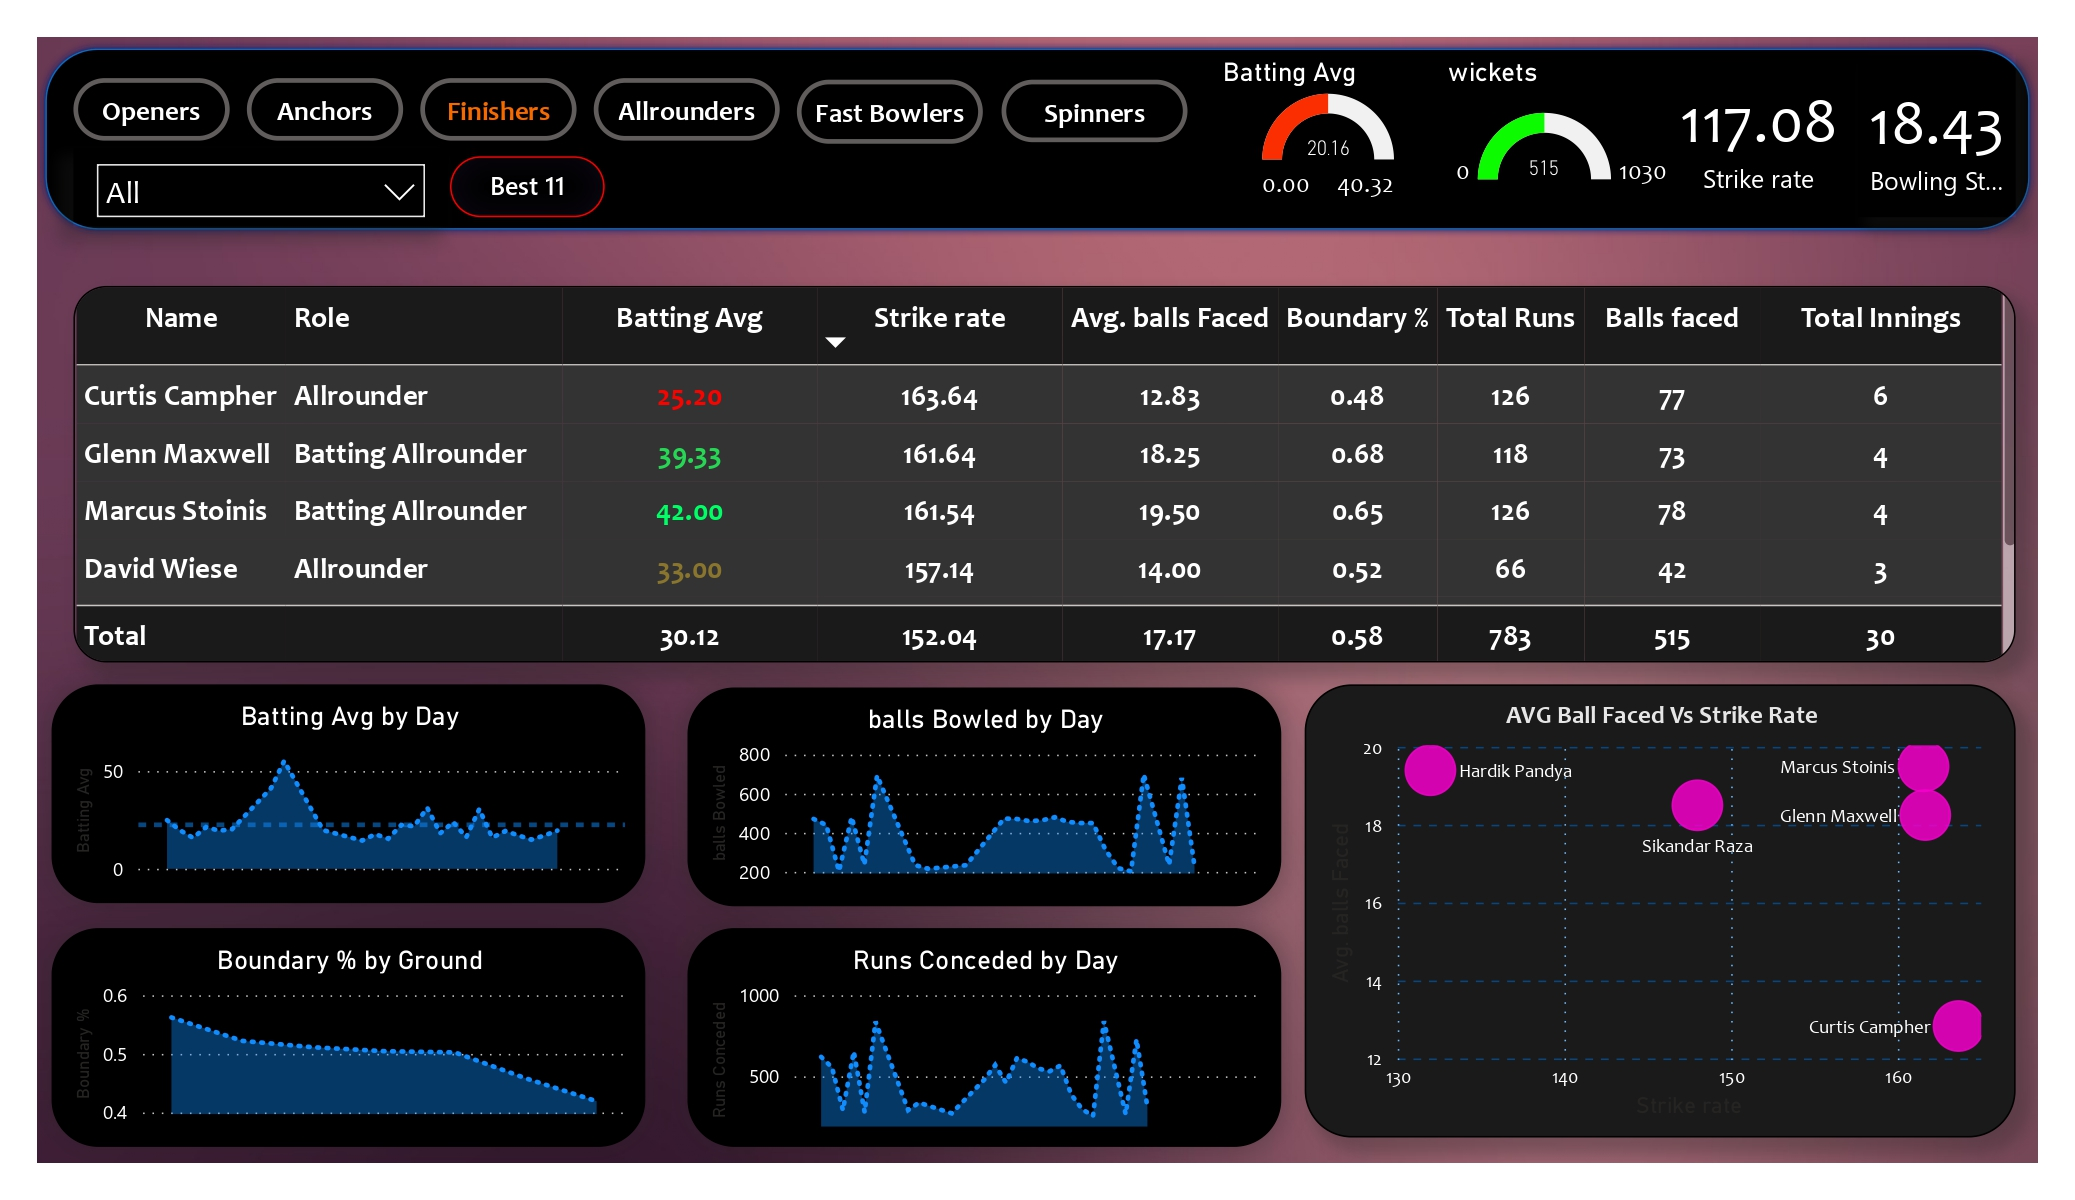

Layout of this report page (visuals, bound fields, positions):
{"tool":"powerbi","page":{"name":"Finishers/Lower Order","canvas":[1280,720],"ordinal":3},"visuals":[{"type":"tableEx","fields":{"Values":["dim_players.name","dim_players.playingRole","Key_measures.Batting Avg","Key_measures.Strike rate","Key_measures.Avg. balls Faced","Key_measures.Boundary %","Key_measures.Total Runs","Key_measures.total balls faced","Key_measures.Total Innings Batted"]},"box":[23.4,158.5,1242.1,241.7],"z":0},{"type":"scatterChart","title":"AVG Ball Faced Vs Strike Rate","fields":{"Category":["dim_players.name"],"X":["Key_measures.Strike rate"],"Y":["Key_measures.Avg. balls Faced"]},"box":[810.8,414.5,454.8,289.7],"z":1000},{"type":"shape","box":[0,2.2,1280.3,125.5],"z":2000},{"type":"gauge","fields":{"Y":["Key_measures.Batting Avg"]},"box":[754,12.2,144.4,101],"z":3000},{"type":"card","fields":{"Values":["Key_measures.Bowling Strike Rate"]},"box":[1164.8,11.1,101,104.4],"z":4000},{"type":"gauge","fields":{"Y":["Key_measures.wickets"]},"box":[898.3,12.2,154.3,101],"z":5000},{"type":"card","fields":{"Values":["Key_measures.Strike rate"]},"box":[1038.2,5.6,126.6,111],"z":6000},{"type":"areaChart","fields":{"Category":["dim_match_summary.matchDate.Variation.Date Hierarchy.Day"],"Y":["Key_measures.Batting Avg"]},"box":[9.1,414.5,380,140],"z":7000},{"type":"areaChart","fields":{"Y":["Key_measures.balls Bowled"],"Category":["dim_match_summary.matchDate.Variation.Date Hierarchy.Day"]},"box":[415.8,415.8,380,140],"z":8000},{"type":"areaChart","fields":{"Category":["dim_match_summary.ground"],"Y":["Key_measures.Boundary %"]},"box":[9.1,570.4,380,140],"z":9000},{"type":"areaChart","fields":{"Category":["dim_match_summary.matchDate.Variation.Date Hierarchy.Day"],"Y":["Key_measures.Runs Conceded"]},"box":[415.8,570.4,380,140],"z":10000},{"type":"actionButton","box":[23.4,26,100,40.3],"z":11000},{"type":"actionButton","box":[134.2,26,100,40.3],"z":12000},{"type":"actionButton","box":[244.9,26,100,40.3],"z":13000},{"type":"actionButton","box":[355.7,26,119.5,40.3],"z":14000},{"type":"actionButton","box":[485.9,27.3,119.5,40.3],"z":15000},{"type":"actionButton","box":[616.9,26.8,118.9,40.1],"z":16000},{"type":"slicer","fields":{"Values":["dim_match_summary.stage"]},"box":[23.3,71.1,240,50],"z":17000},{"type":"actionButton","box":[264.3,76.2,98.8,39.3],"z":18000}]}

Visuals, with their boxes on the page's 1280x720 design canvas (x1, y1, x2, y2). These are canvas units, not pixel positions in the 2075x1200 screenshot, which may show the page scaled, cropped or inside an application window:
tableEx - dim_players.name x dim_players.playingRole: rect(23, 158, 1266, 400)
"AVG Ball Faced Vs Strike Rate" scatterChart: rect(811, 414, 1266, 704)
shape: rect(0, 2, 1280, 128)
gauge - Key_measures.Batting Avg: rect(754, 12, 898, 113)
card - Key_measures.Bowling Strike Rate: rect(1165, 11, 1266, 116)
gauge - Key_measures.wickets: rect(898, 12, 1053, 113)
card - Key_measures.Strike rate: rect(1038, 6, 1165, 117)
areaChart - dim_match_summary.matchDate.Variation.Date Hierarchy.Day x Key_measures.Batting Avg: rect(9, 414, 389, 554)
areaChart - Key_measures.balls Bowled x dim_match_summary.matchDate.Variation.Date Hierarchy.Day: rect(416, 416, 796, 556)
areaChart - dim_match_summary.ground x Key_measures.Boundary %: rect(9, 570, 389, 710)
areaChart - dim_match_summary.matchDate.Variation.Date Hierarchy.Day x Key_measures.Runs Conceded: rect(416, 570, 796, 710)
actionButton: rect(23, 26, 123, 66)
actionButton: rect(134, 26, 234, 66)
actionButton: rect(245, 26, 345, 66)
actionButton: rect(356, 26, 475, 66)
actionButton: rect(486, 27, 605, 68)
actionButton: rect(617, 27, 736, 67)
slicer - dim_match_summary.stage: rect(23, 71, 263, 121)
actionButton: rect(264, 76, 363, 116)
